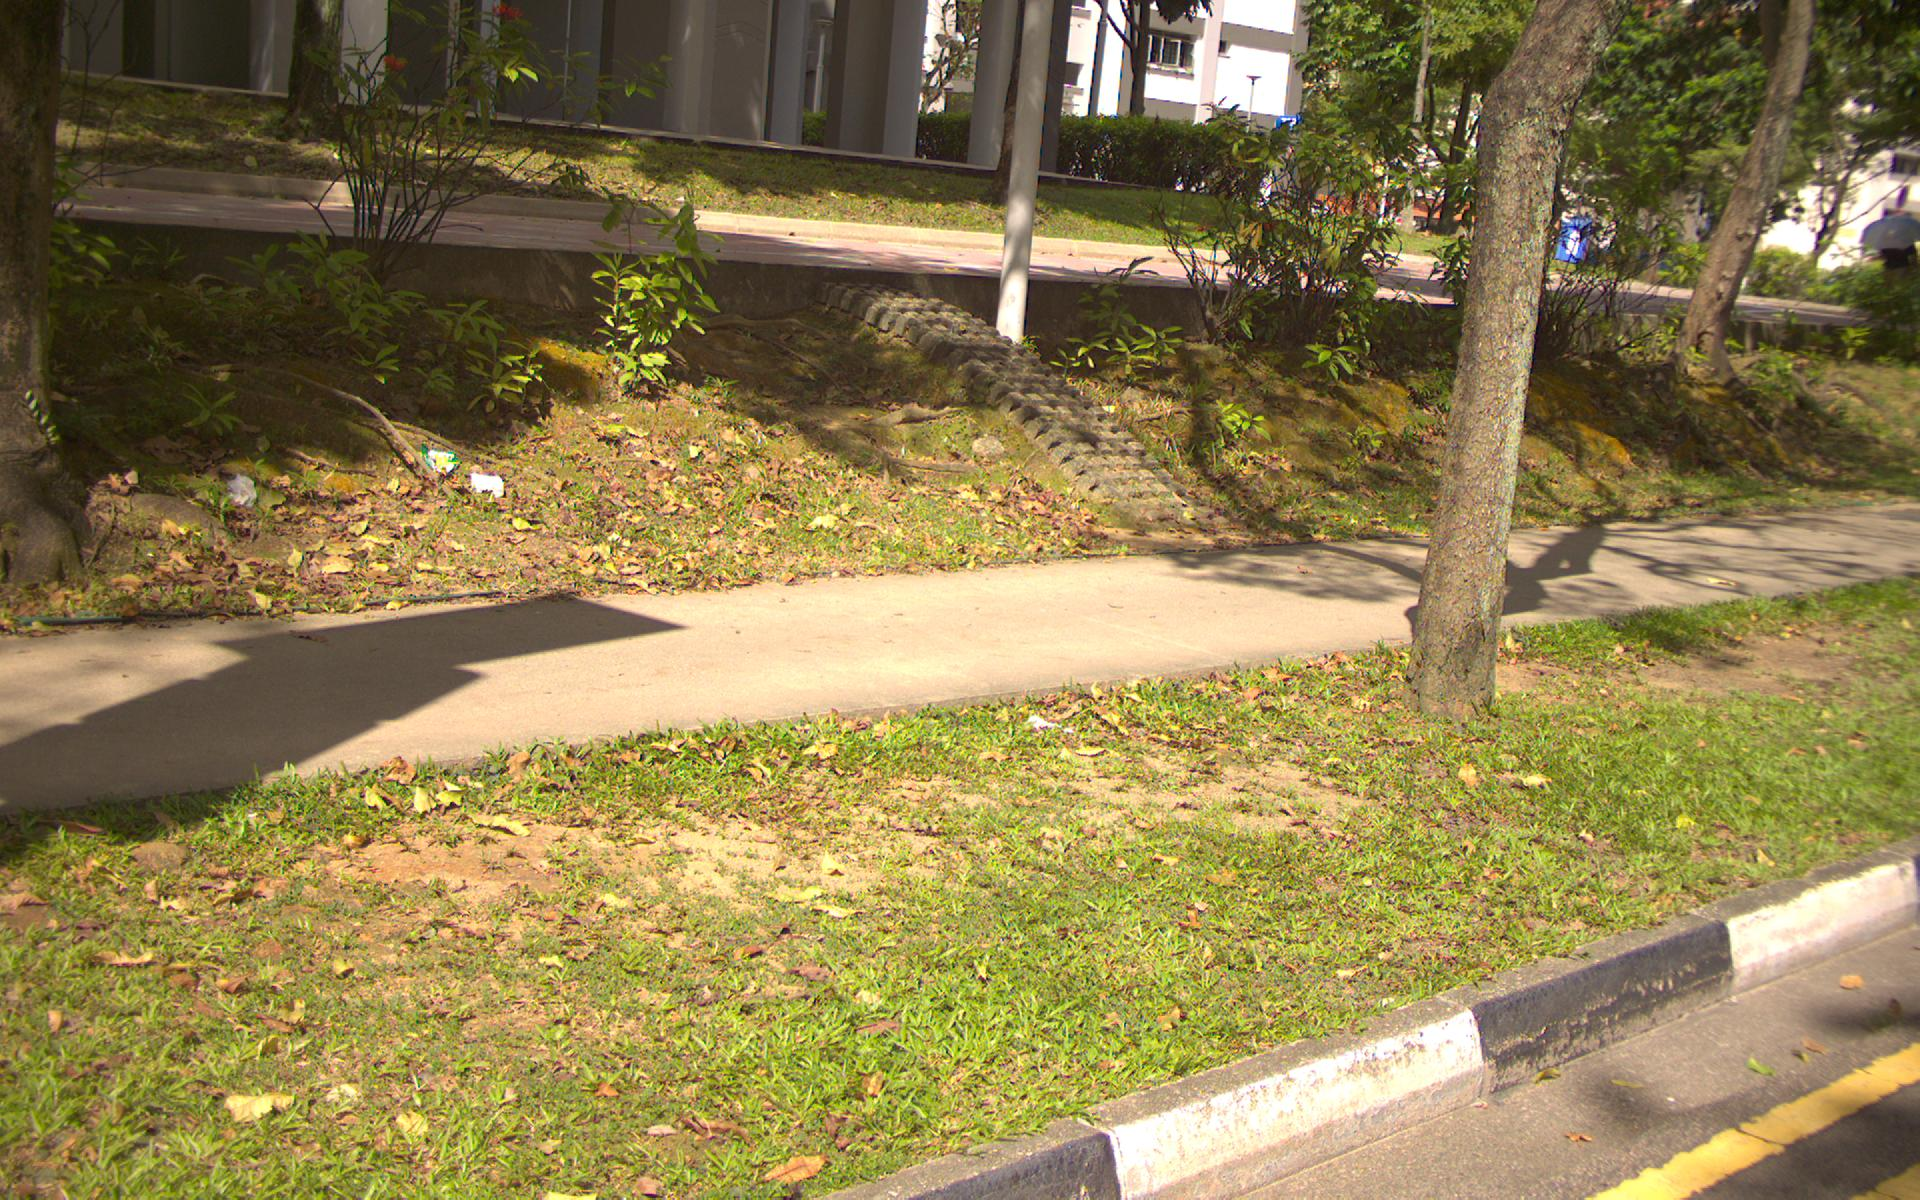road_turf_low: (12, 574, 1905, 1190)
